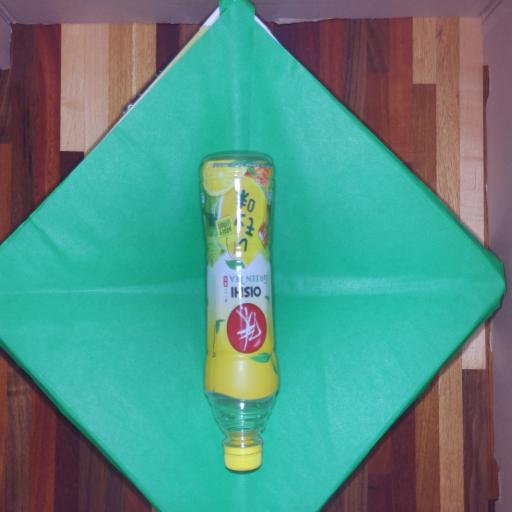bottle: (201, 154, 278, 471)
